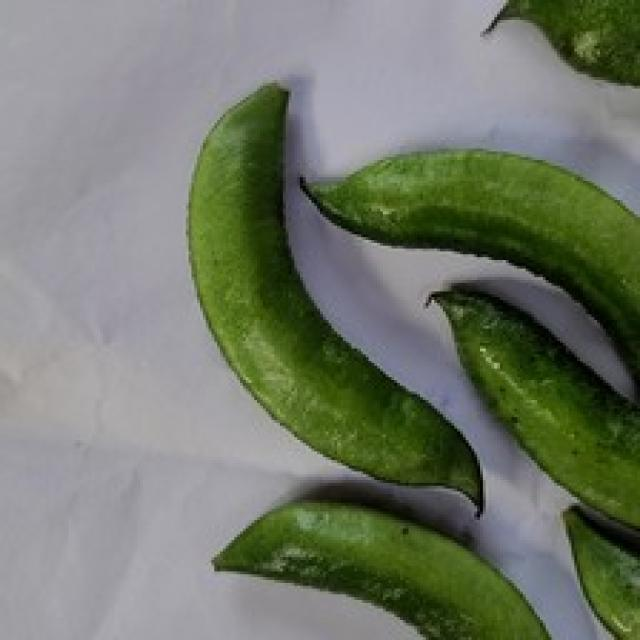Bean: (183, 77, 486, 517), (423, 277, 637, 557), (208, 497, 566, 637)
